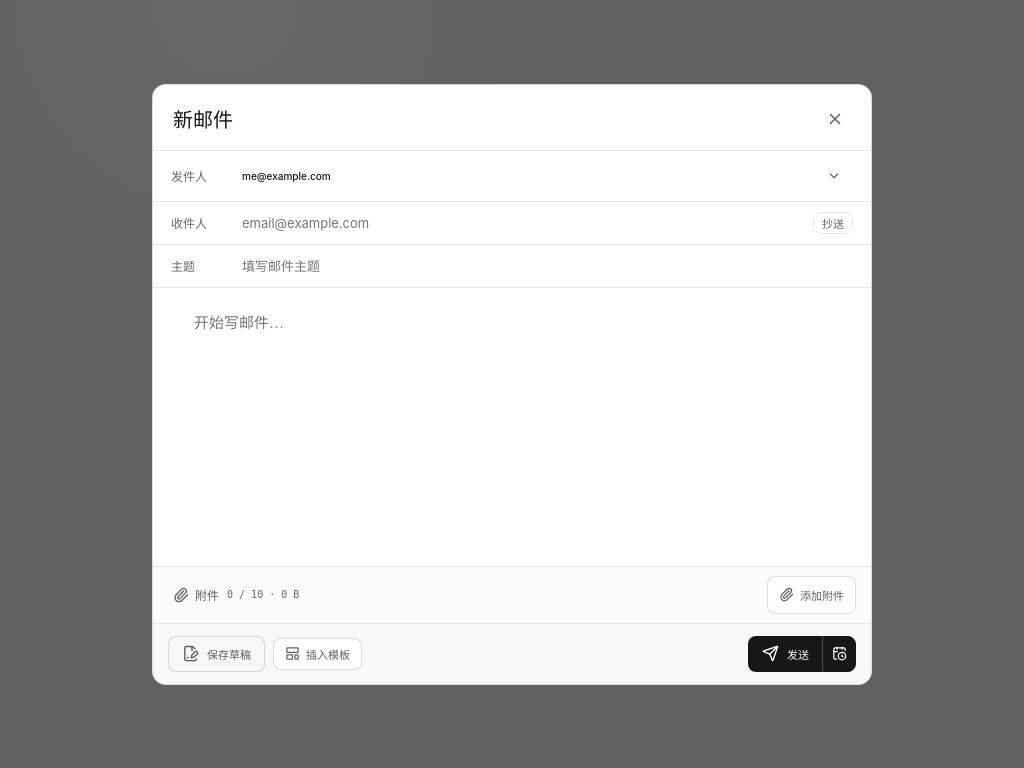
Test: compose template picker › labels the toggle button and links it to the open listbox
Step 1. Click the button with class "compose-template-toggle" → (318, 654), box [273,638,362,670]
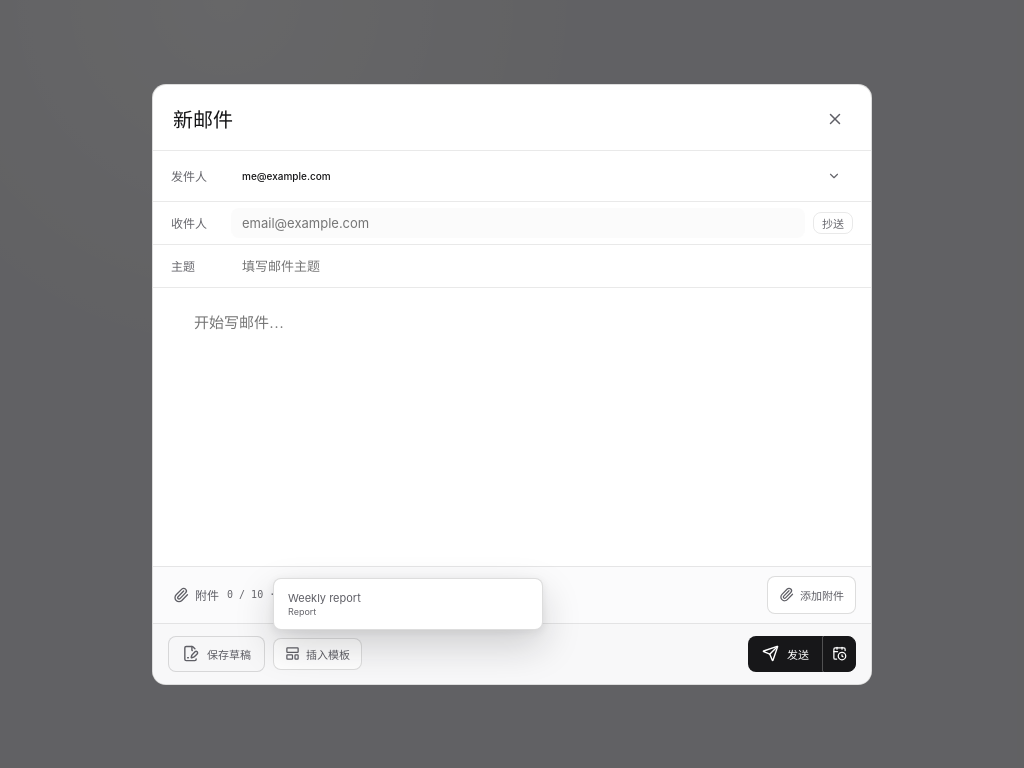
Now the button with class "compose-template-toggle" is expanded, box [273,638,362,670]
Now the option with id "compose-template-option-0" shows "Weekly report", box [279,584,537,624]
